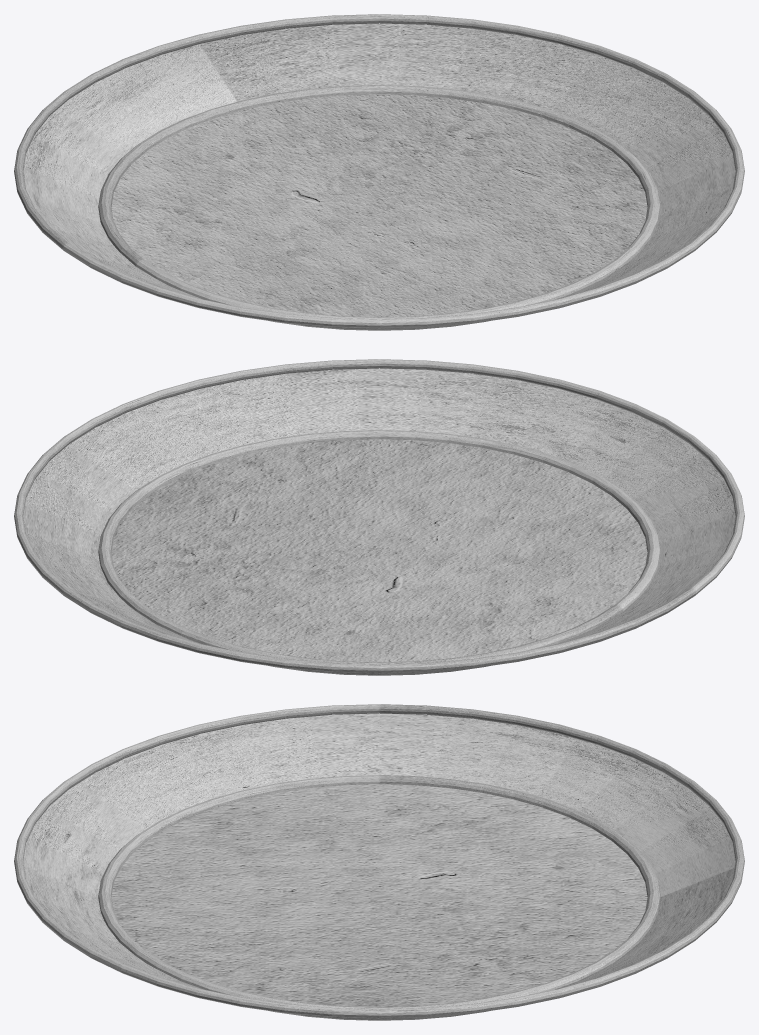
File: Ceramic Plate.glb
3 views of the same model, one above another, from view 1: azimuth 30°, elevation 25°; view 2: azimuth 150°, elevation 25°; view 3: azimuth 270°, elevation 25° (orthographic).
Parts seen in each view (by area): view 1: Cylinder, Torus; view 2: Cylinder, Torus; view 3: Cylinder, Torus.
Boxes of the visible parts, left/top/right/bottom form: Cylinder: left=14, top=14, right=744, bottom=328; Torus: left=98, top=85, right=660, bottom=330; Cylinder: left=14, top=359, right=744, bottom=673; Torus: left=98, top=430, right=660, bottom=675; Cylinder: left=14, top=704, right=744, bottom=1018; Torus: left=98, top=775, right=660, bottom=1020.
Bounding box in the file's own units: 2.03 × 0.1435 × 2.03.
2 materials, 2 textured.
